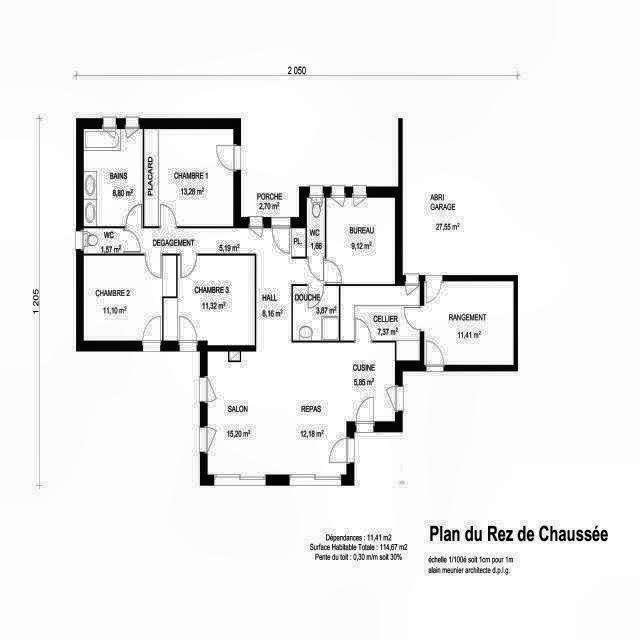room: (124, 228, 395, 475), (144, 129, 233, 226), (163, 256, 255, 345), (424, 281, 514, 365), (84, 255, 162, 341), (340, 286, 420, 361), (326, 198, 395, 284), (84, 129, 143, 226), (293, 286, 339, 341), (307, 198, 325, 257), (84, 228, 123, 254)
